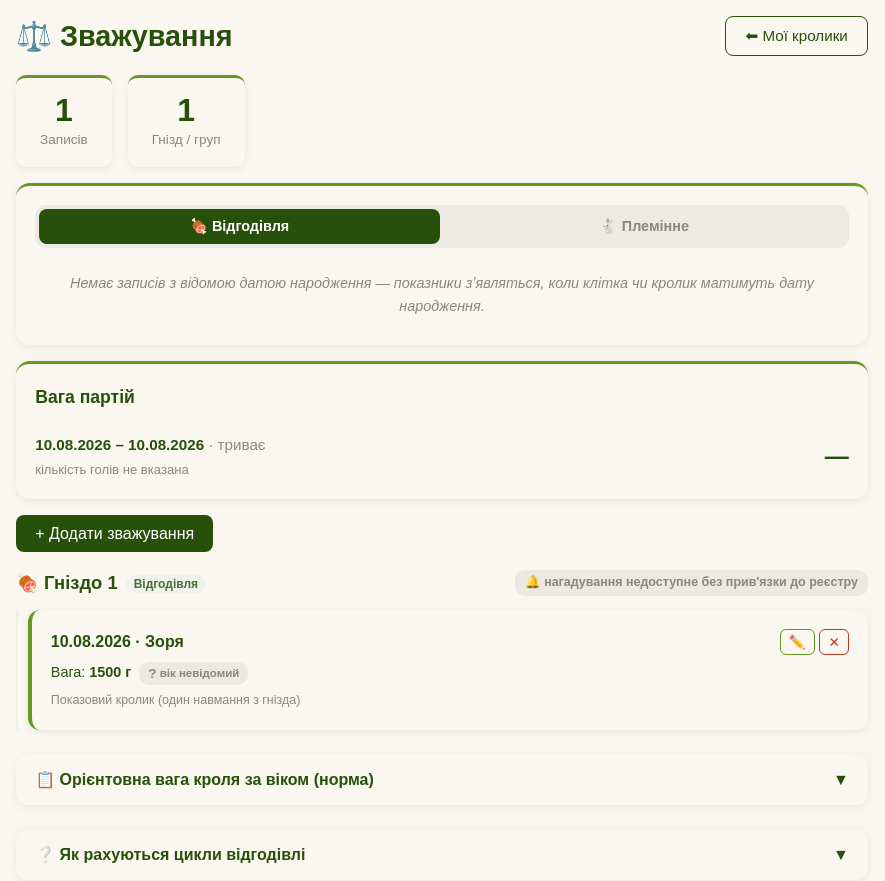
Test case: Weighing: помилки Supabase › видалення: помилка показується
This screenshot has width=885, height=881.
Click the button with class "weighing-delete-btn". click: x=834, y=642
box: [819,629,849,655]
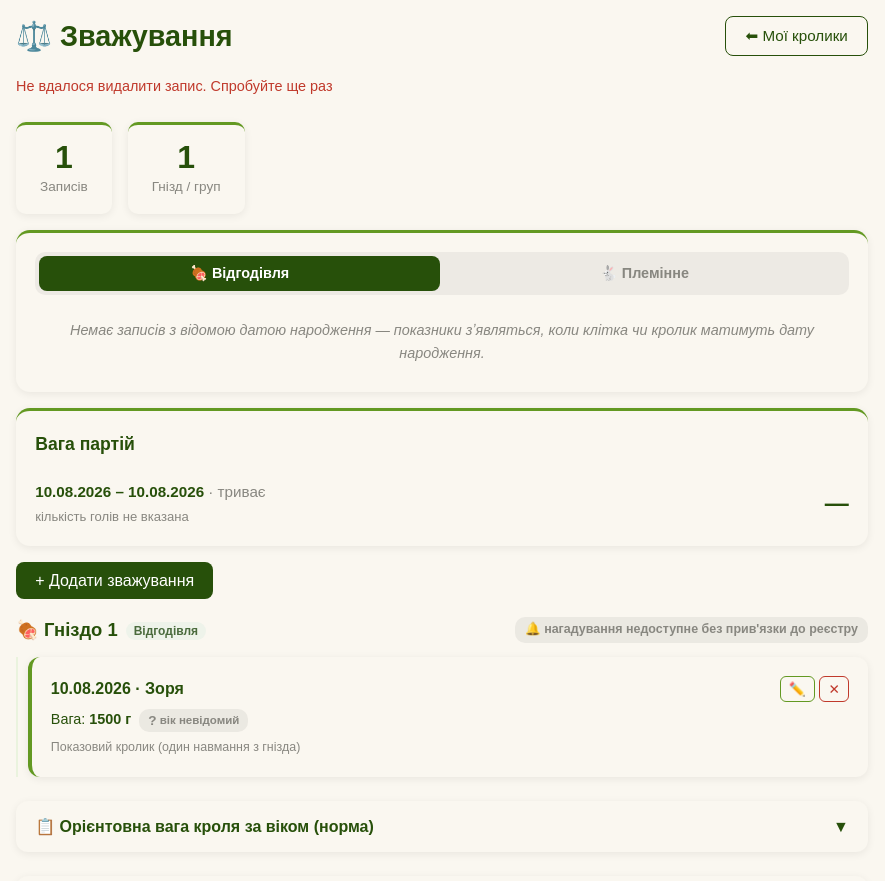
Now the text "Не вдалося видалити запис. Спробуйте ще раз" is shown, box [16,78,332,94]
